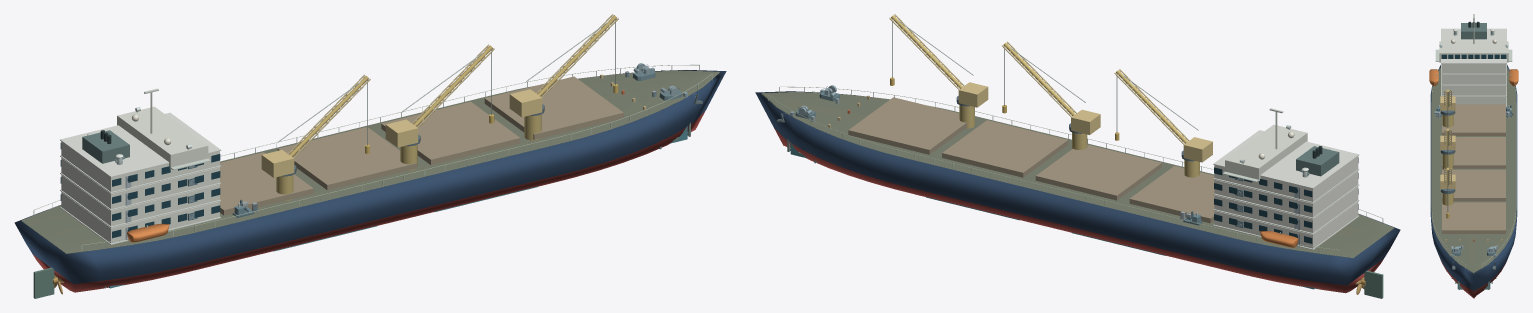
File: bbc-bangkok.lod0.glb
3 renders of one model, left to right at view 1: azimuth 30°, elevation 25°; view 2: azimuth 150°, elevation 25°; view 3: azimuth 270°, elevation 25°, orthographic. The views are drawn at different scales.
Parts seen in each view (by area): view 1: bbc-bangkok.structure.hull.outer-hull-shell.1, bbc-bangkok.structure.decks.main-strength-deck.1, bbc-bangkok.cargo.hatches.hatch-cover-2.1, bbc-bangkok.structure.hull.antifouling-underwater-shell.1, bbc-bangkok.cargo.hatches.hatch-cover-3.1, bbc-bangkok.cargo.hatches.hatch-cover-4.1, bbc-bangkok.cargo.hatches.hatch-cover-1.1, bbc-bangkok.navigation.bridge.wheelhouse.1, bbc-bangkok.accommodation.superstructure.superstructure-weat, bbc-bangkok.accommodation.superstructure.deck-3-enclosure.1, bbc-bangkok.accommodation.superstructure.deck-2-enclosure.1, bbc-bangkok.accommodation.superstructure.deck-1-enclosure.1 (+10 smaller); view 2: bbc-bangkok.structure.hull.outer-hull-shell.1, bbc-bangkok.structure.decks.main-strength-deck.1, bbc-bangkok.cargo.hatches.hatch-cover-3.1, bbc-bangkok.cargo.hatches.hatch-cover-2.1, bbc-bangkok.cargo.hatches.hatch-cover-4.1, bbc-bangkok.structure.hull.antifouling-underwater-shell.1, bbc-bangkok.cargo.hatches.hatch-cover-1.1, bbc-bangkok.navigation.bridge.wheelhouse.1, bbc-bangkok.accommodation.superstructure.superstructure-weat, bbc-bangkok.accommodation.superstructure.deck-3-enclosure.1, bbc-bangkok.accommodation.superstructure.deck-2-enclosure.1, bbc-bangkok.accommodation.superstructure.deck-1-enclosure.1 (+7 smaller); view 3: bbc-bangkok.structure.decks.main-strength-deck.1, bbc-bangkok.structure.hull.outer-hull-shell.1, bbc-bangkok.cargo.hatches.hatch-cover-4.1, bbc-bangkok.cargo.hatches.hatch-cover-1.1, bbc-bangkok.cargo.hatches.hatch-cover-3.1, bbc-bangkok.cargo.hatches.hatch-cover-2.1, bbc-bangkok.navigation.bridge.wheelhouse.1, bbc-bangkok.accommodation.superstructure.superstructure-weat, bbc-bangkok.accommodation.superstructure.deck-3-enclosure.1, bbc-bangkok.accommodation.superstructure.deck-2-enclosure.1, bbc-bangkok.accommodation.superstructure.deck-4-enclosure.1, bbc-bangkok.accommodation.superstructure.deck-1-enclosure.1 (+16 smaller).
Part boxes in pixels (left/top/right/bottom): bbc-bangkok.structure.hull.outer-hull-shell.1: left=14, top=70, right=726, bottom=284; bbc-bangkok.structure.decks.main-strength-deck.1: left=21, top=70, right=719, bottom=253; bbc-bangkok.cargo.hatches.hatch-cover-2.1: left=277, top=127, right=416, bottom=190; bbc-bangkok.structure.hull.antifouling-underwater-shell.1: left=33, top=111, right=705, bottom=292; bbc-bangkok.cargo.hatches.hatch-cover-3.1: left=381, top=101, right=520, bottom=164; bbc-bangkok.cargo.hatches.hatch-cover-4.1: left=484, top=76, right=623, bottom=139; bbc-bangkok.cargo.hatches.hatch-cover-1.1: left=220, top=152, right=313, bottom=215; bbc-bangkok.navigation.bridge.wheelhouse.1: left=117, top=106, right=208, bottom=169; bbc-bangkok.accommodation.superstructure.superstructure-weat: left=60, top=112, right=221, bottom=177; bbc-bangkok.accommodation.superstructure.deck-3-enclosure.1: left=61, top=157, right=219, bottom=208; bbc-bangkok.accommodation.superstructure.deck-2-enclosure.1: left=61, top=175, right=219, bottom=226; bbc-bangkok.accommodation.superstructure.deck-1-enclosure.1: left=61, top=192, right=219, bottom=243; bbc-bangkok.structure.hull.outer-hull-shell.1: left=755, top=91, right=1400, bottom=285; bbc-bangkok.structure.decks.main-strength-deck.1: left=761, top=92, right=1393, bottom=258; bbc-bangkok.cargo.hatches.hatch-cover-3.1: left=942, top=120, right=1068, bottom=177; bbc-bangkok.cargo.hatches.hatch-cover-2.1: left=1035, top=144, right=1161, bottom=200; bbc-bangkok.cargo.hatches.hatch-cover-4.1: left=848, top=97, right=966, bottom=154; bbc-bangkok.structure.hull.antifouling-underwater-shell.1: left=774, top=128, right=1383, bottom=293; bbc-bangkok.cargo.hatches.hatch-cover-1.1: left=1129, top=166, right=1214, bottom=223; bbc-bangkok.navigation.bridge.wheelhouse.1: left=1225, top=124, right=1307, bottom=181; bbc-bangkok.accommodation.superstructure.superstructure-weat: left=1213, top=130, right=1359, bottom=188; bbc-bangkok.accommodation.superstructure.deck-3-enclosure.1: left=1214, top=171, right=1358, bottom=217; bbc-bangkok.accommodation.superstructure.deck-2-enclosure.1: left=1214, top=186, right=1358, bottom=232; bbc-bangkok.accommodation.superstructure.deck-1-enclosure.1: left=1214, top=202, right=1358, bottom=248; bbc-bangkok.structure.decks.main-strength-deck.1: left=1431, top=68, right=1516, bottom=273; bbc-bangkok.structure.hull.outer-hull-shell.1: left=1430, top=65, right=1517, bottom=290; bbc-bangkok.cargo.hatches.hatch-cover-4.1: left=1442, top=202, right=1505, bottom=233; bbc-bangkok.cargo.hatches.hatch-cover-1.1: left=1442, top=104, right=1505, bottom=135; bbc-bangkok.cargo.hatches.hatch-cover-3.1: left=1442, top=169, right=1505, bottom=201; bbc-bangkok.cargo.hatches.hatch-cover-2.1: left=1442, top=137, right=1505, bottom=168; bbc-bangkok.navigation.bridge.wheelhouse.1: left=1439, top=41, right=1508, bottom=62; bbc-bangkok.accommodation.superstructure.superstructure-weat: left=1441, top=28, right=1506, bottom=63; bbc-bangkok.accommodation.superstructure.deck-3-enclosure.1: left=1441, top=74, right=1506, bottom=84; bbc-bangkok.accommodation.superstructure.deck-2-enclosure.1: left=1441, top=85, right=1506, bottom=95; bbc-bangkok.accommodation.superstructure.deck-4-enclosure.1: left=1441, top=64, right=1506, bottom=73; bbc-bangkok.accommodation.superstructure.deck-1-enclosure.1: left=1455, top=96, right=1506, bottom=106.
Bounding box in the file's own units: 120 × 29.77 × 20.78.
